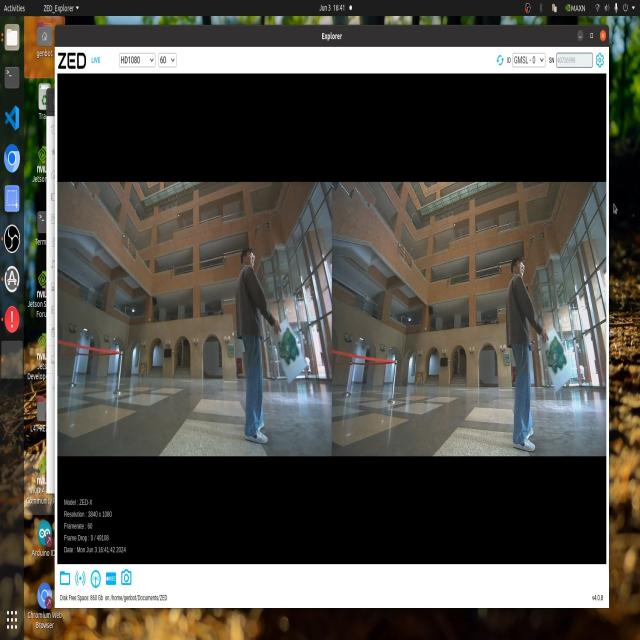green: (271, 312, 312, 369), (543, 325, 570, 373)
